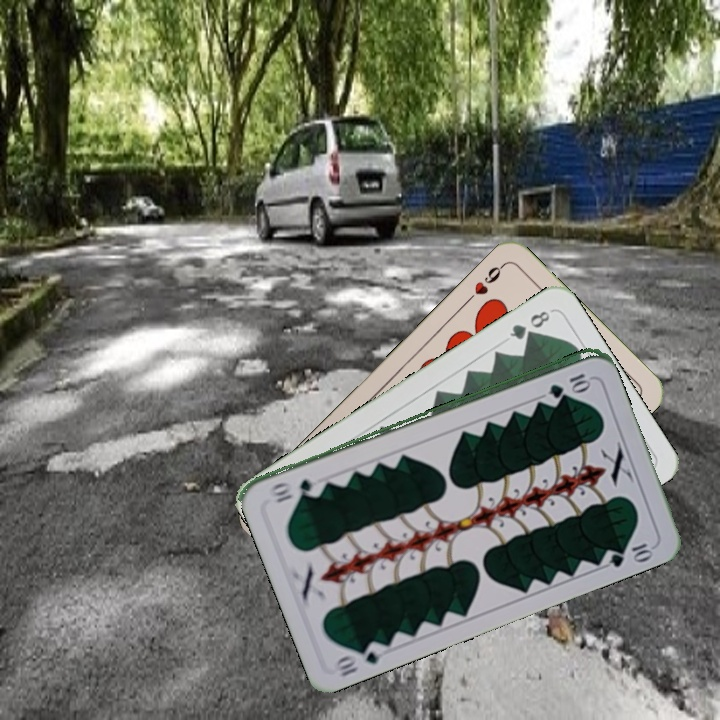G10: (332, 637, 389, 679), (545, 369, 592, 398)
G8: (505, 306, 553, 343)
H9: (461, 260, 508, 306)
